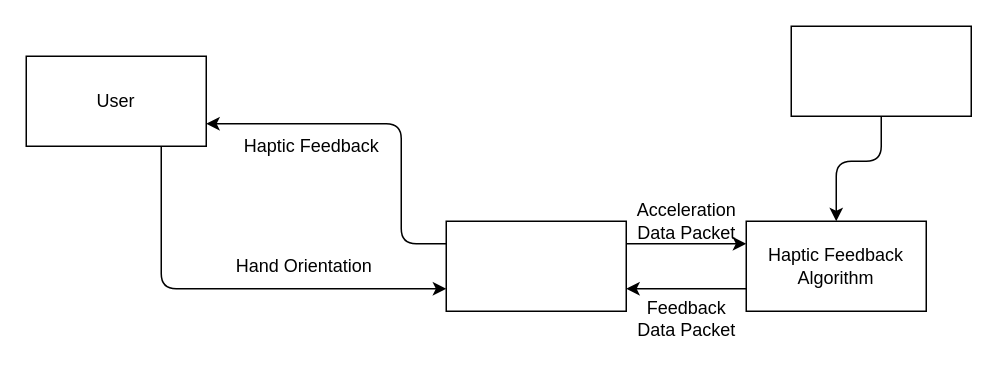
The diagram is 998 pixels wide and 368 high, and some of its shapes have lost their labels. Each missing label, with the centre of its shape:
Activity Goal Algorithm: the point at 880,70
Glove: the point at 535,265
